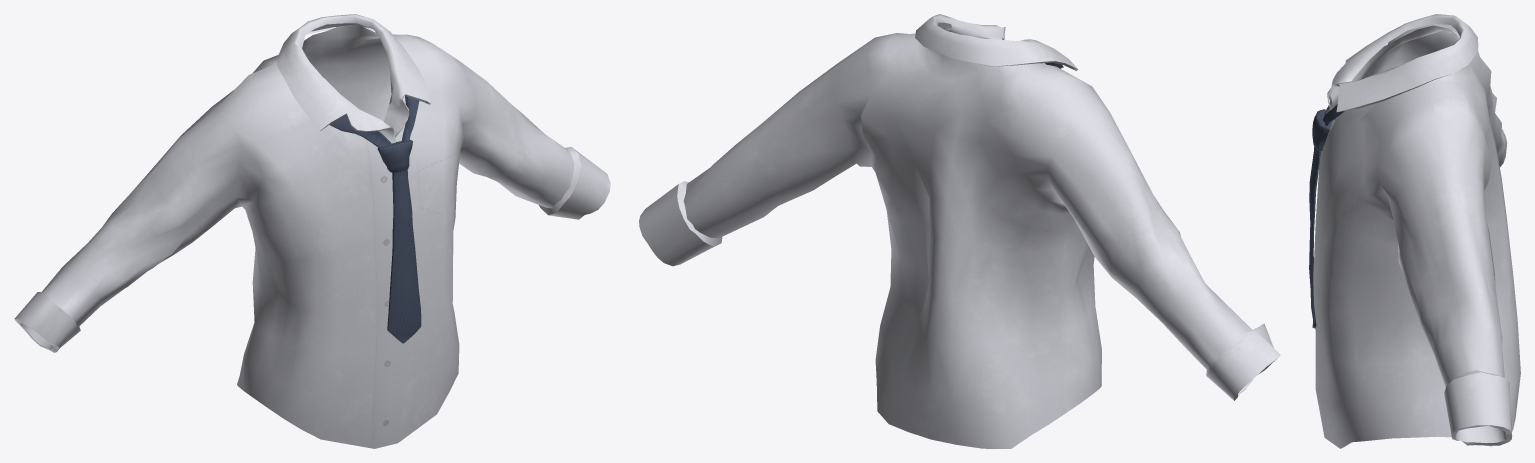
File: Low_poly_woman_oversize_shirt_with_tie.glb
3 renders of one model, left to right at view 1: azimuth 30°, elevation 25°; view 2: azimuth 150°, elevation 25°; view 3: azimuth 270°, elevation 25°, orthographic. The views are drawn at different scales.
Visible parts, largest first — view 1: Shirt_lo_M_cloth_0, Tie_lo_M_cloth_0; view 2: Shirt_lo_M_cloth_0; view 3: Shirt_lo_M_cloth_0, Tie_lo_M_cloth_0.
Part boxes in pixels (x1,y1,x2,y2): Shirt_lo_M_cloth_0: (14,14,610,448); Tie_lo_M_cloth_0: (329,96,421,343); Shirt_lo_M_cloth_0: (639,14,1280,448); Shirt_lo_M_cloth_0: (1313,14,1520,448); Tie_lo_M_cloth_0: (1309,104,1344,328).
Size of the model in its own units: 0.9074 by 0.5572 by 0.2654.
1 material, 1 textured.
